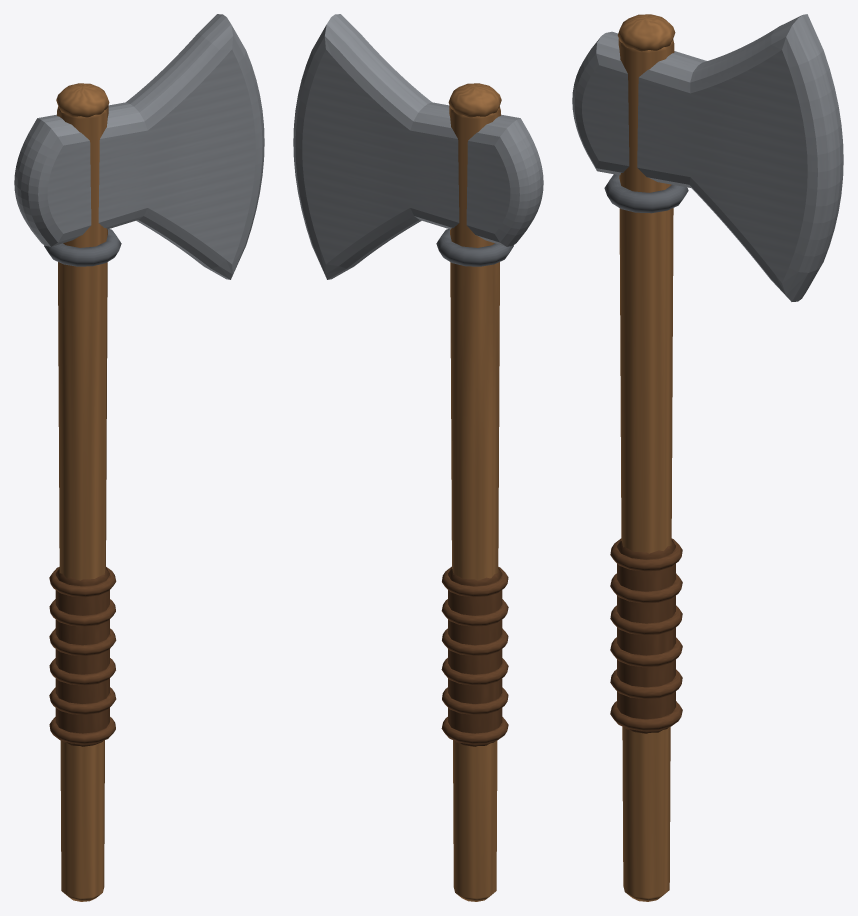
The model's file is axe.glb.
The picture shows the model from 3 angles, left to right: view 1: azimuth 30°, elevation 25°; view 2: azimuth 150°, elevation 25°; view 3: azimuth 330°, elevation 25°; orthographic projection. The views are drawn at different scales.
Visible parts, largest first — view 1: head, haft, grip, axe; view 2: head, haft, grip, axe; view 3: head, haft, grip, axe.
Boxes of the visible parts, x1,y1,x2,y2 form: head: (14,14,264,279); haft: (57,106,108,901); grip: (49,567,116,746); axe: (44,83,121,266); head: (293,14,543,279); haft: (449,106,500,901); grip: (441,566,508,746); axe: (436,83,513,266); head: (572,14,843,301); haft: (618,39,674,901); grip: (610,538,682,733); axe: (604,14,688,213).
Bounding box in the file's own units: 0.2281 × 0.7661 × 0.0624.
Materials: 5 (5 with a texture image).
